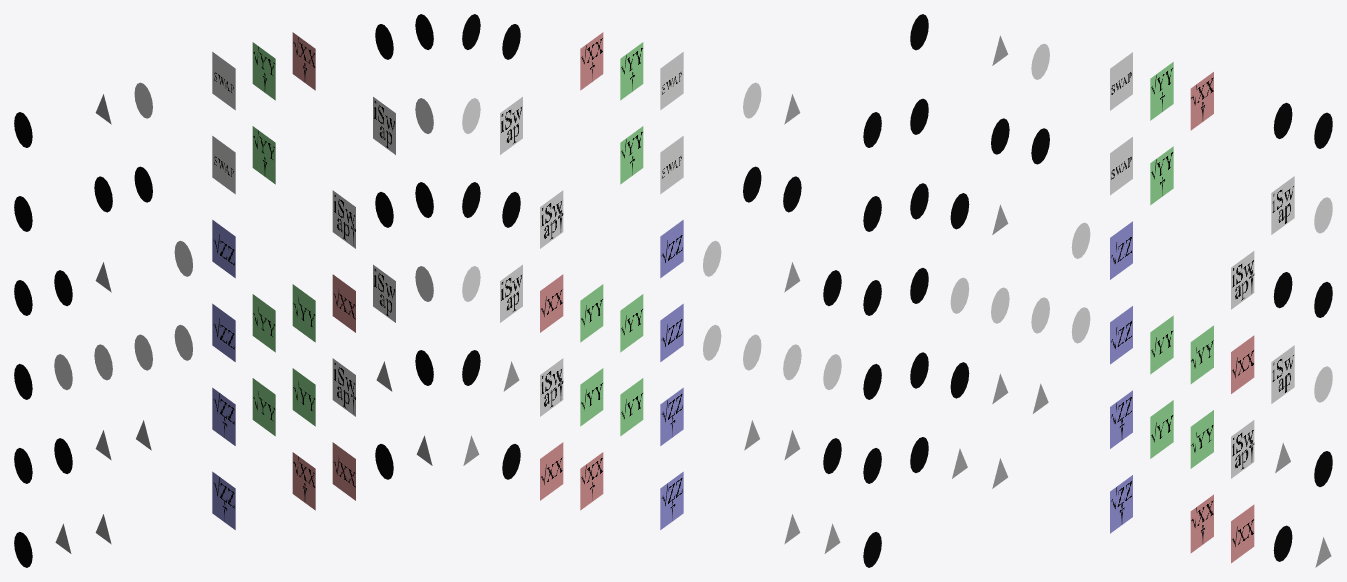
The model's file is two_qubits_gates.gltf.
3 renders of one model, left to right at view 1: azimuth 30°, elevation 25°; view 2: azimuth 150°, elevation 25°; view 3: azimuth 330°, elevation 25°, orthographic.
Size of the model in its own units: 10 by 11 by 1.
Materials: 4 (1 with a texture image).
